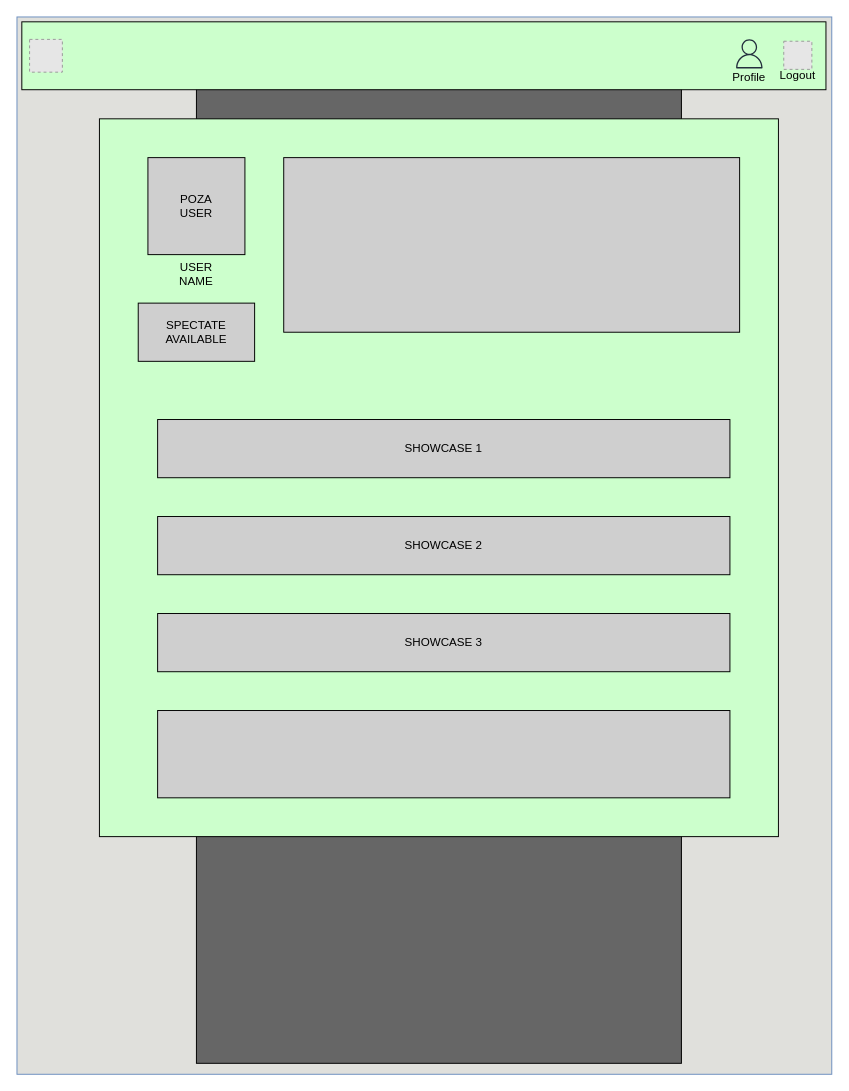
This 849x1091 diagram has some shape labels left out. Grey dashed boxes stand in for pictures. The box of each missing label's shape, as (x1, y1, x2, y2) in pixels:
BIO USER: (283, 157, 740, 332)
GAME SAVES (DOWNLOAD): (157, 710, 730, 798)
